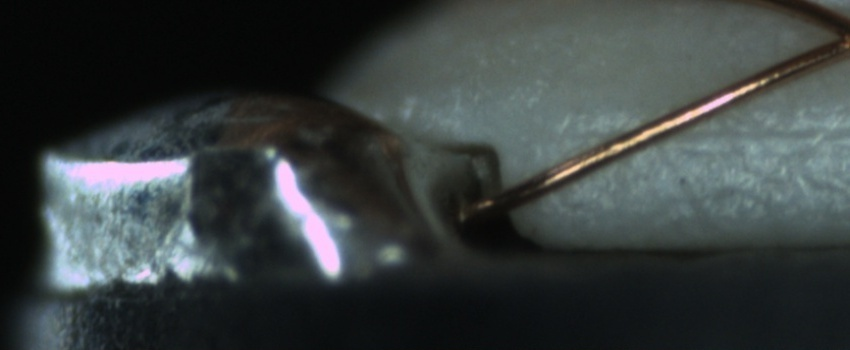CL: (804, 2, 850, 64)
DL: (567, 100, 850, 163)
